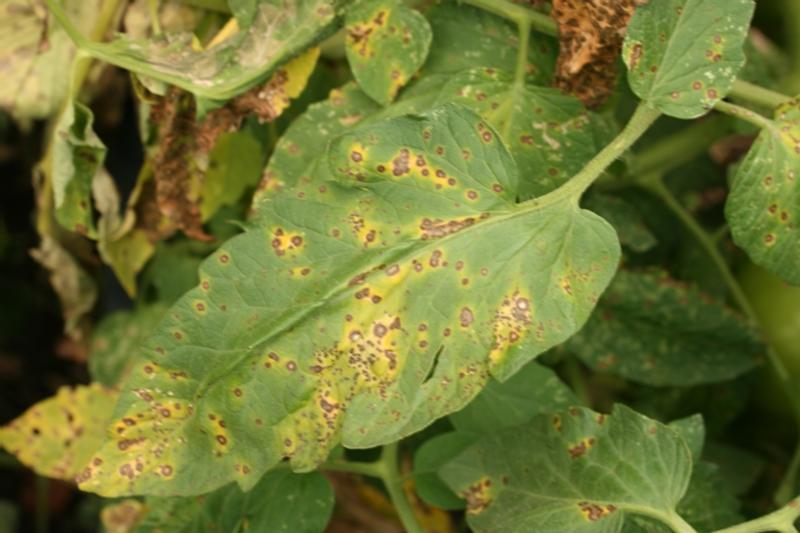Tomato Septoria leaf spot: (78, 110, 618, 492)
